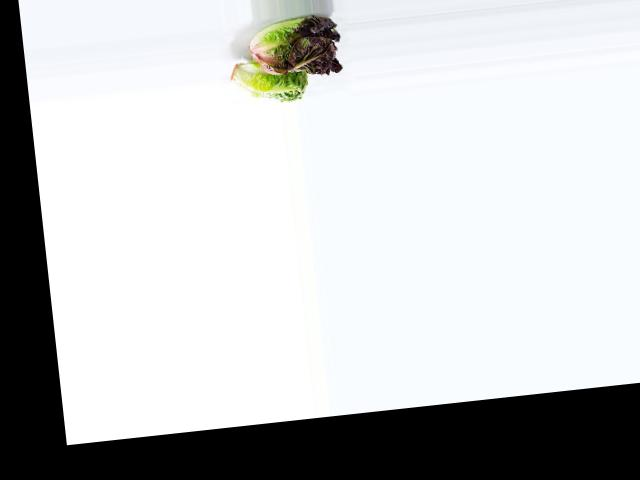lettuce: (226, 53, 311, 108)
